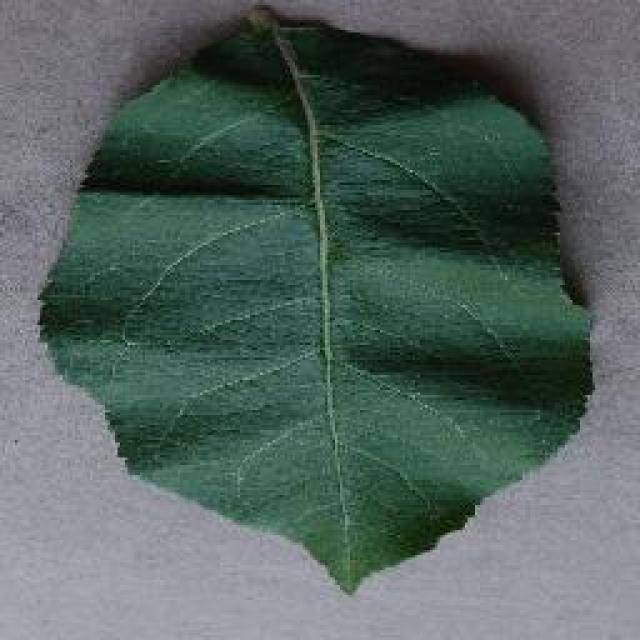apple healthy: (35, 3, 595, 595)
